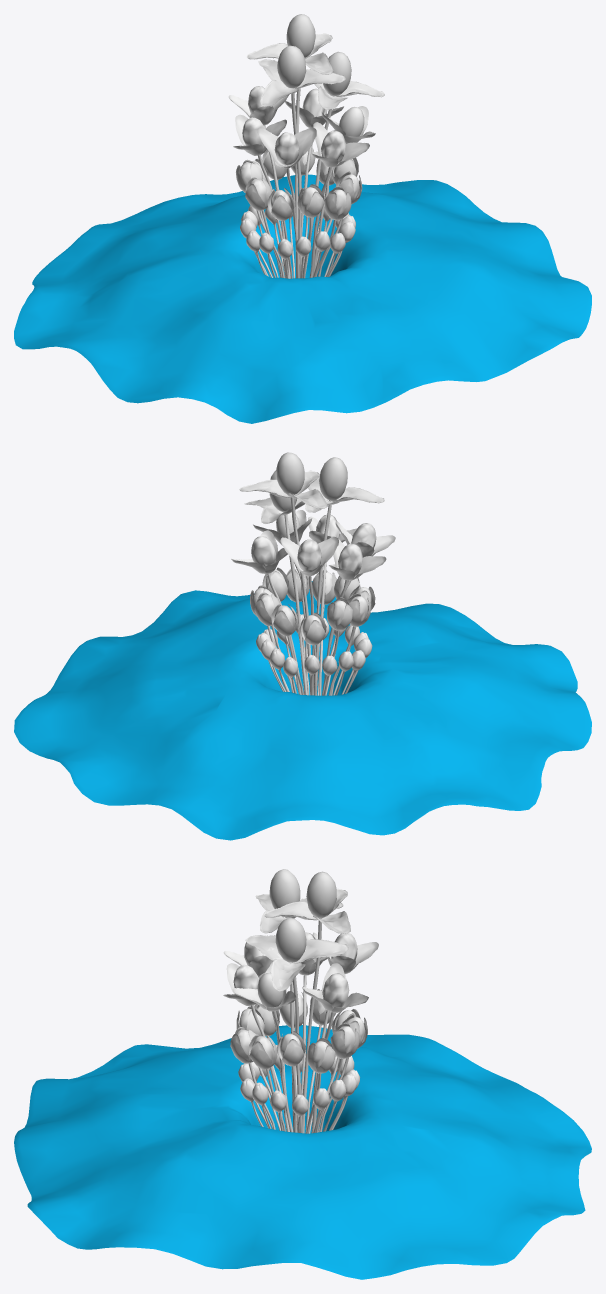
File: Flower.fbx
The picture shows the model from 3 angles, top to bottom: view 1: azimuth 30°, elevation 25°; view 2: azimuth 150°, elevation 25°; view 3: azimuth 270°, elevation 25°; orthographic projection. The views are drawn at different scales.
Parts seen in each view (by area): view 1: Flower; view 2: Flower; view 3: Flower.
Part boxes in pixels (x1,y1,x2,y2): Flower: (14, 14, 591, 423); Flower: (14, 452, 591, 840); Flower: (14, 869, 591, 1279).
Bounding box in the file's own units: 906 × 536 × 874.
